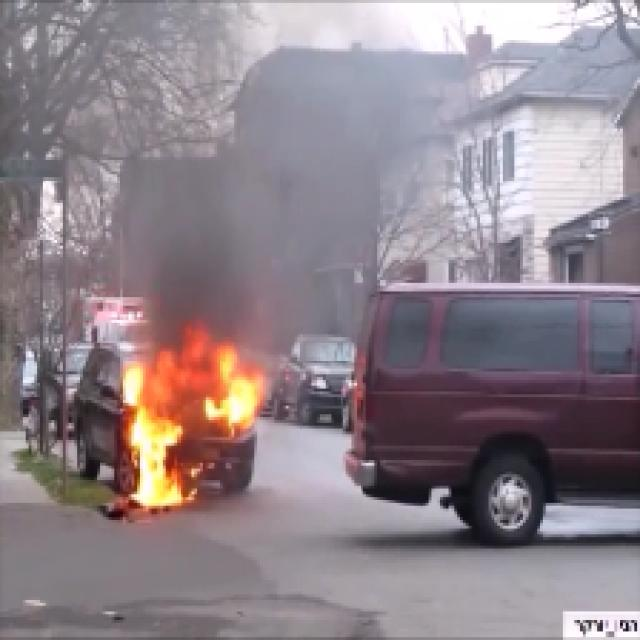fire: (115, 346, 252, 510)
smoke: (150, 164, 330, 330)
